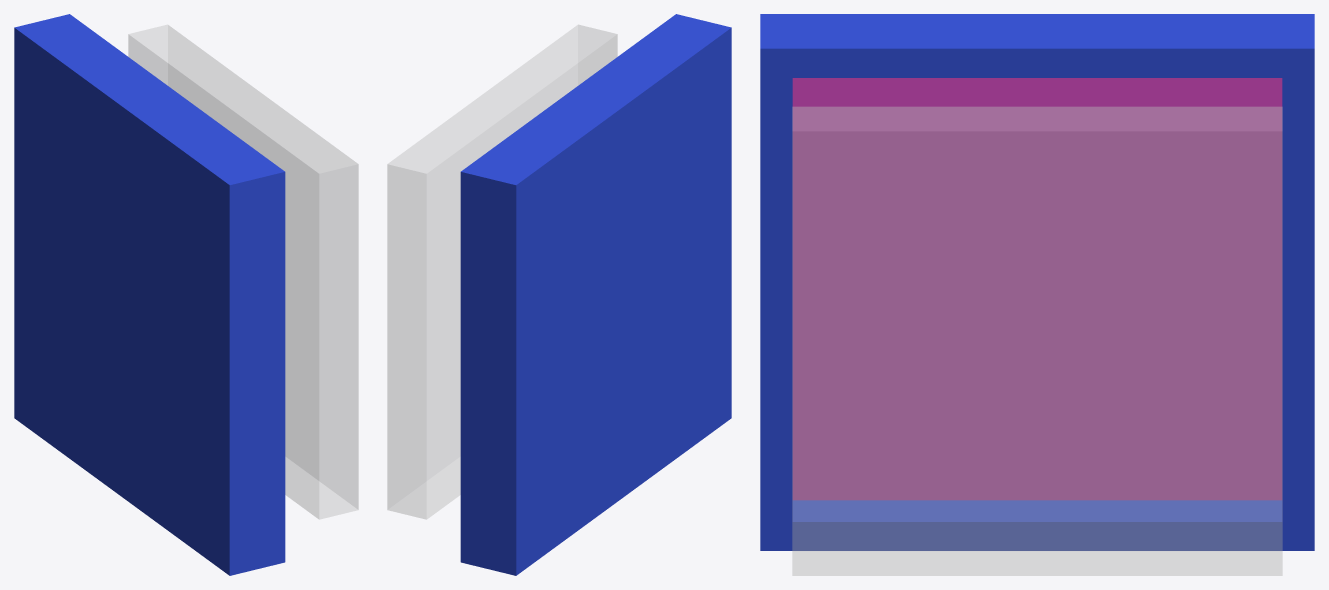
Rendered from GlassTest2.gltf.
The picture shows the model from 3 angles, left to right: view 1: azimuth 30°, elevation 25°; view 2: azimuth 150°, elevation 25°; view 3: azimuth 270°, elevation 25°; orthographic projection. The views are drawn at different scales.
Parts seen in each view (by area): view 1: Cube.001, Cube; view 2: Cube.001, Cube; view 3: Cube.001, Cube.
Part boxes in pixels (x1=…): Cube.001: x1=14, y1=14, x2=285, y2=575; Cube: x1=128, y1=24, x2=358, y2=519; Cube.001: x1=460, y1=14, x2=731, y2=575; Cube: x1=387, y1=24, x2=617, y2=519; Cube.001: x1=760, y1=14, x2=1314, y2=550; Cube: x1=792, y1=107, x2=1282, y2=575.
Size of the model in its own units: 0.8544 by 2.26 by 2.26.
